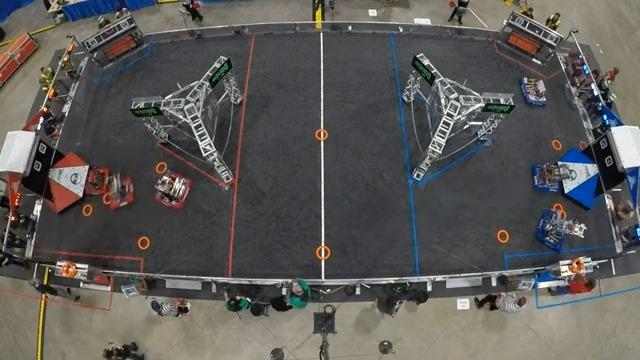robot: (528, 202, 576, 251), (153, 169, 193, 209), (531, 158, 572, 193), (101, 174, 140, 206), (517, 72, 551, 108), (86, 163, 107, 197)
